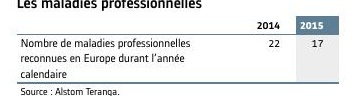table: (0, 0, 356, 96)
